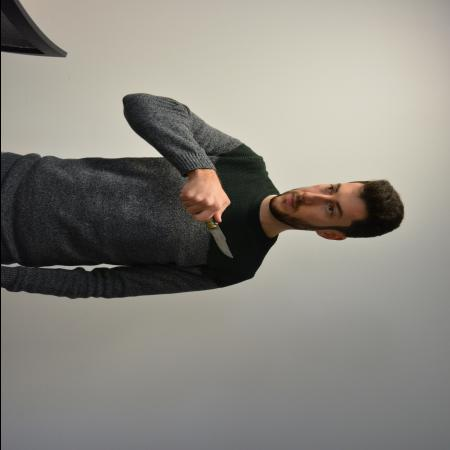long weapon: (192, 208, 239, 262)
